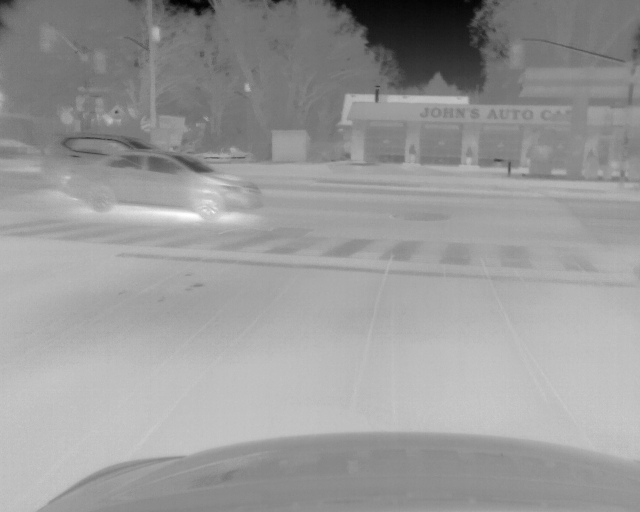car: (62, 148, 261, 222), (42, 134, 157, 183)
